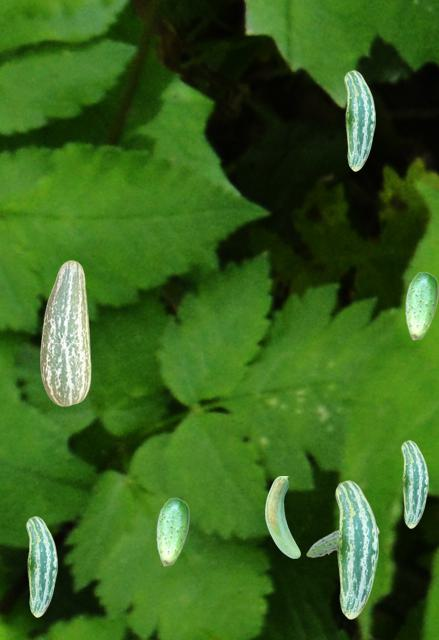cucumber: (40, 260, 90, 405), (335, 480, 377, 618), (344, 70, 374, 170), (26, 516, 56, 616), (265, 476, 299, 557), (401, 440, 427, 527), (306, 525, 378, 556), (405, 271, 437, 339), (156, 497, 188, 565)
